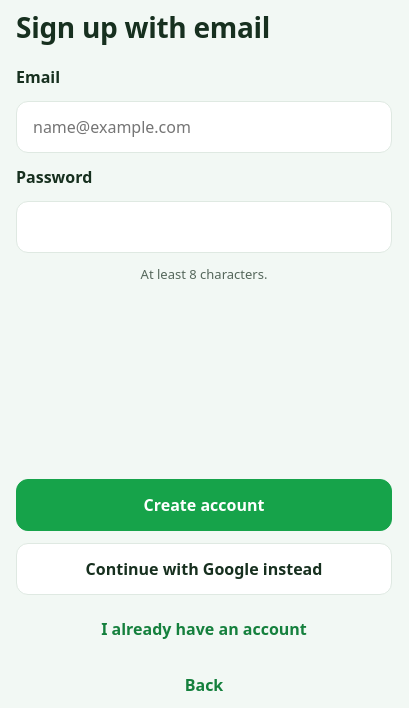
Scenario: shows the error from the backend
The image size is (409, 708).
Step 1. Click the button "I already have an account" → point(204, 629), box [16,607,392,651]
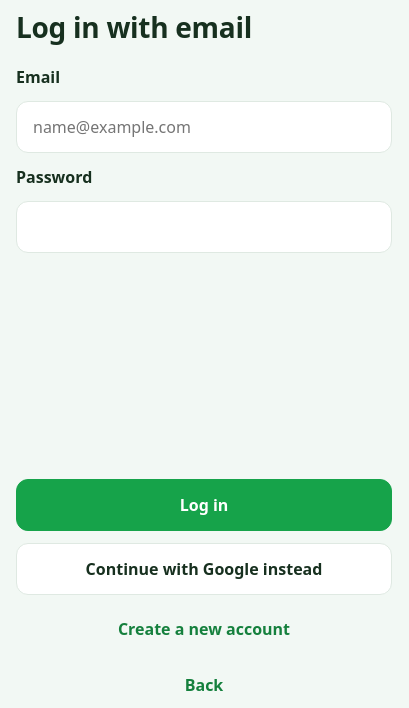
Step 2. Type "sanne@example.com" into the field labelled "Email" → point(204, 127), box [16,101,392,153]
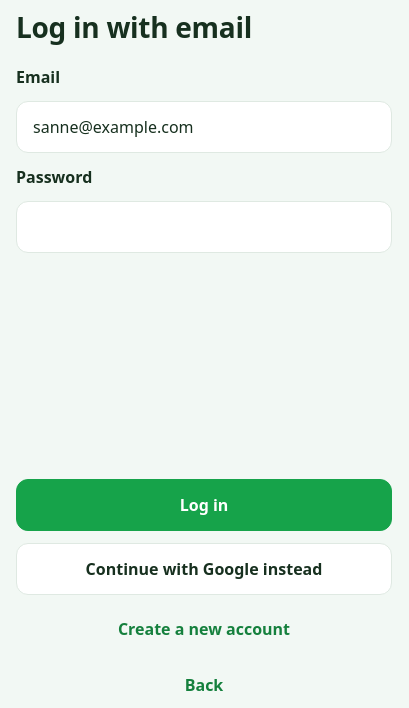
Step 3. Type "wrong-password" into the password field labelled "Password" → point(204, 227), box [16,201,392,253]
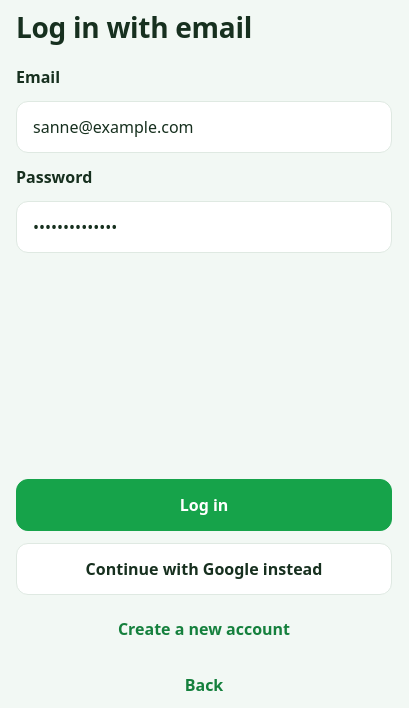
Step 4. Click the button "Log in" → point(204, 505), box [16,479,392,531]
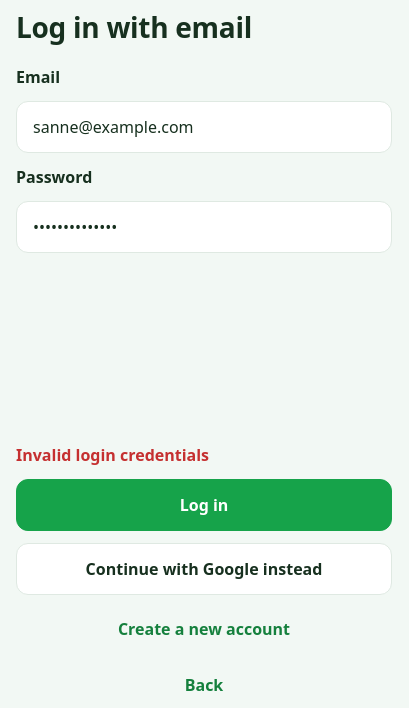
Now the message reads "Invalid login credentials", box [16,444,209,466]
